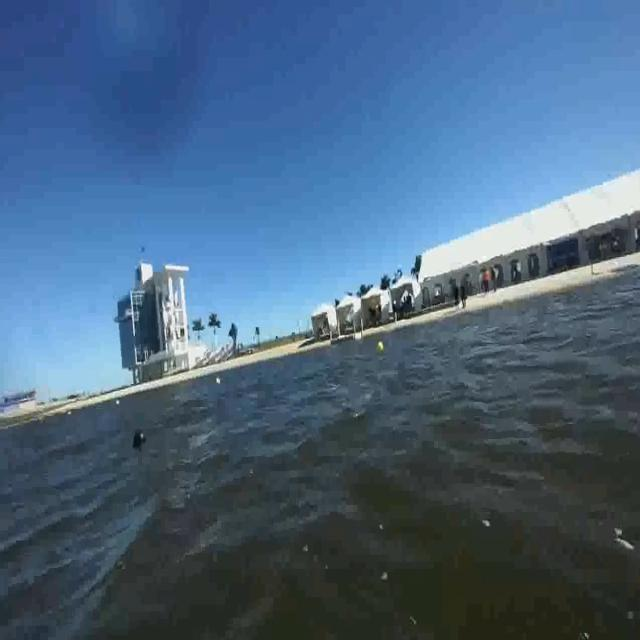black-buoy: (132, 429, 148, 452)
yellow-buoy: (377, 340, 387, 356)
